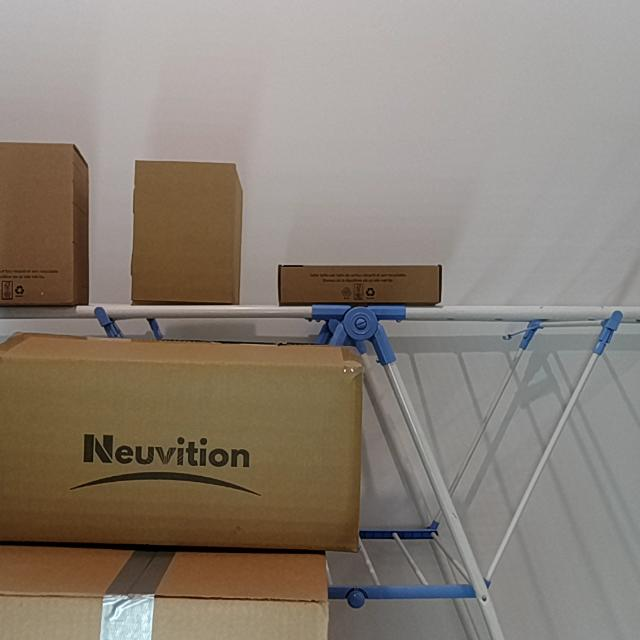box: (0, 358, 361, 545), (2, 593, 330, 640), (133, 161, 236, 304), (0, 143, 75, 302), (280, 263, 442, 304)
